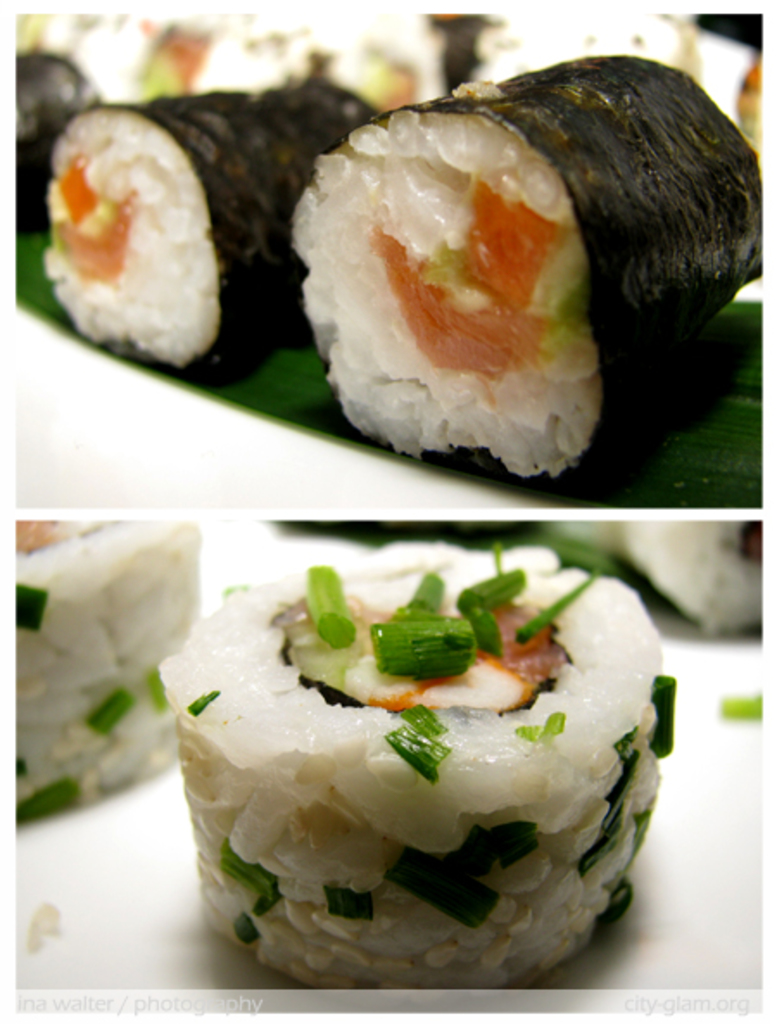sushi: (164, 539, 668, 988), (294, 47, 761, 490), (48, 76, 392, 383), (16, 521, 202, 824), (19, 50, 104, 228)
